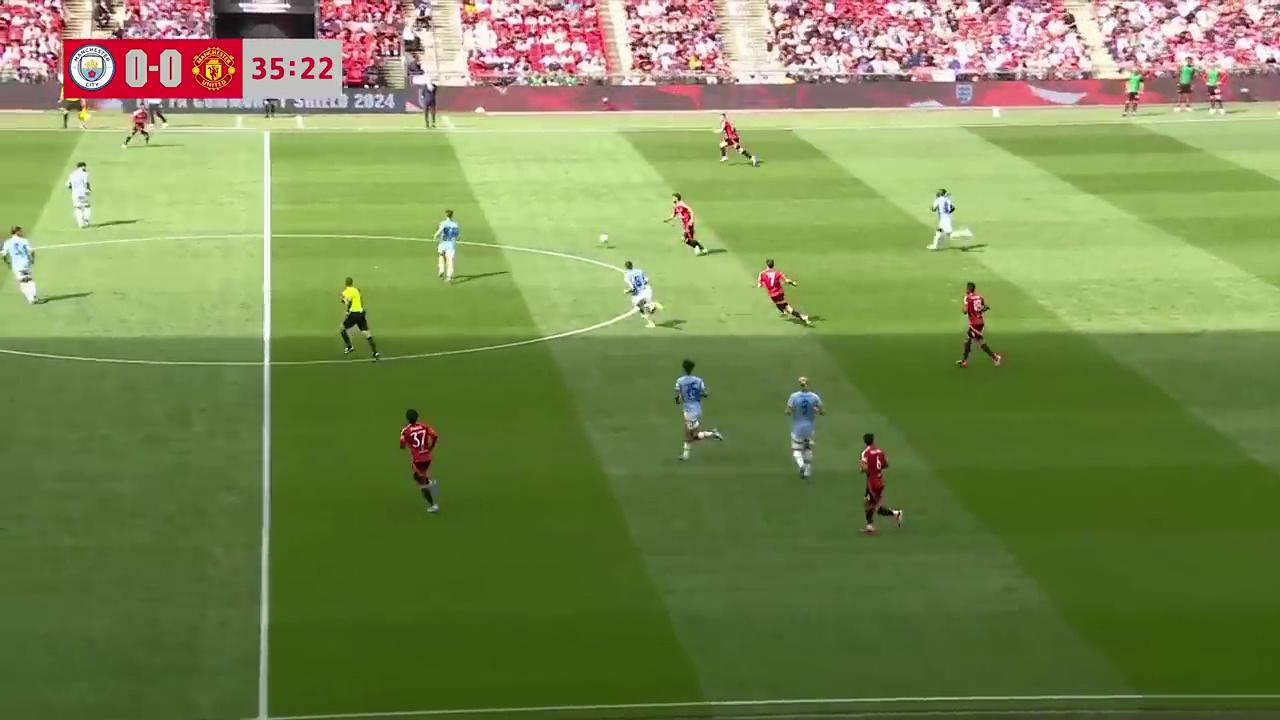ball: (596, 230, 610, 246)
player: (673, 359, 724, 462), (858, 433, 904, 535), (399, 408, 439, 513), (784, 376, 824, 477), (956, 281, 1002, 368), (756, 259, 812, 323), (0, 225, 38, 304), (664, 193, 705, 254), (624, 260, 659, 327), (718, 118, 760, 166), (926, 187, 956, 250), (434, 209, 459, 284), (67, 161, 92, 228), (122, 102, 151, 147)
referee: (339, 276, 379, 358), (59, 88, 91, 131)
